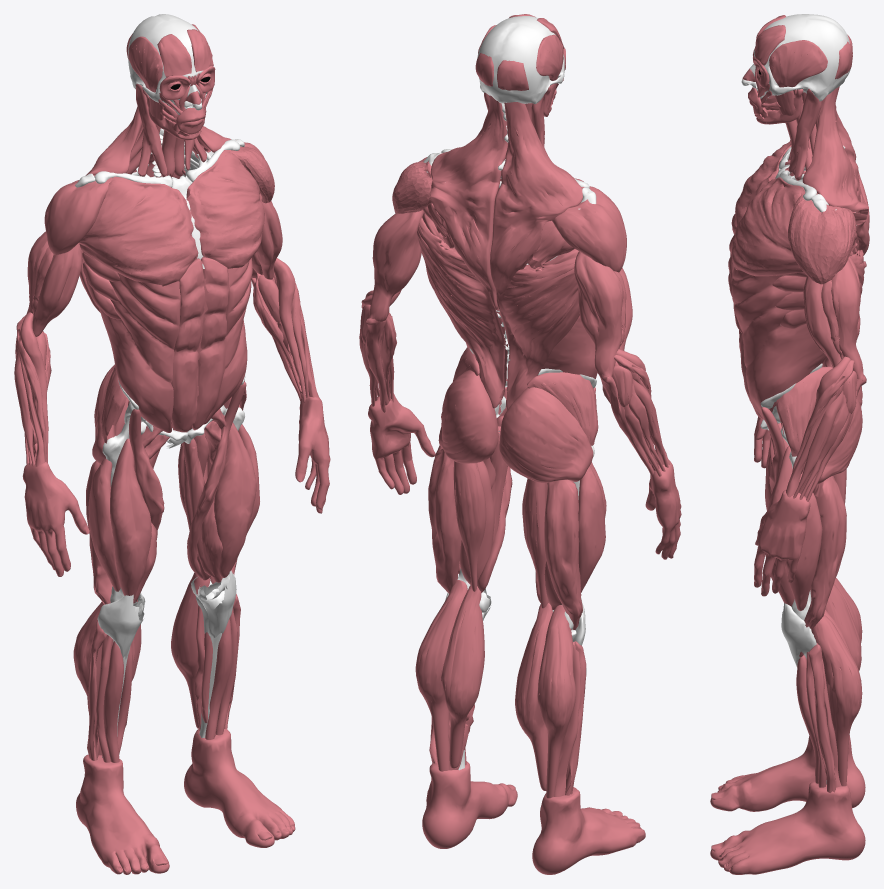
3 renders of one model, left to right at view 1: azimuth 30°, elevation 25°; view 2: azimuth 150°, elevation 25°; view 3: azimuth 270°, elevation 25°, orthographic.
Visible parts, largest first — view 1: Object_131, Object_304.004, Object_73, Object_76, Object_132, Object_74, Object_107, Object_75, Object_108, Object_77, Object_43, Object_78 (+38 smaller); view 2: Object_131, Object_81, Object_130, Object_82, Object_129, Object_91, Object_92, Object_93, Object_304.004, Object_132, Object_94, Object_99 (+24 smaller); view 3: Object_131, Object_78, Object_304.004, Object_74, Object_132, Object_44, Object_82, Object_130, Object_100, Object_50, Object_96, Object_4 (+27 smaller).
Part boxes in pixels (box(x1,y1,x2,y2)): Object_131: box(76, 728, 295, 874); Object_304.004: box(75, 14, 245, 757); Object_73: box(79, 176, 198, 286); Object_76: box(98, 273, 180, 432); Object_132: box(22, 396, 330, 576); Object_74: box(186, 150, 264, 268); Object_107: box(110, 438, 151, 598); Object_75: box(171, 258, 204, 432); Object_108: box(214, 415, 256, 577); Object_77: box(192, 257, 229, 430); Object_43: box(44, 174, 112, 255); Object_78: box(203, 257, 252, 424); Object_131: box(422, 761, 645, 874); Object_81: box(490, 102, 582, 310); Object_130: box(415, 580, 484, 771); Object_82: box(429, 95, 507, 309); Object_129: box(515, 603, 575, 798); Object_91: box(497, 257, 579, 409); Object_92: box(417, 217, 507, 408); Object_93: box(499, 387, 593, 482); Object_304.004: box(423, 16, 596, 770); Object_132: box(368, 393, 681, 559); Object_94: box(438, 370, 498, 463); Object_99: box(544, 479, 582, 629); Object_131: box(710, 735, 865, 874); Object_78: box(731, 267, 826, 421); Object_304.004: box(741, 14, 856, 783); Object_74: box(731, 177, 804, 276); Object_132: box(754, 416, 810, 596); Object_44: box(788, 190, 856, 284); Object_82: box(802, 86, 869, 255); Object_130: box(811, 610, 862, 786); Object_100: box(799, 476, 846, 657); Object_50: box(831, 256, 863, 379); Object_96: box(776, 366, 832, 456); Object_4: box(769, 40, 827, 94).
Bounding box in the file's own units: 26.61 × 68.75 × 12.18.
